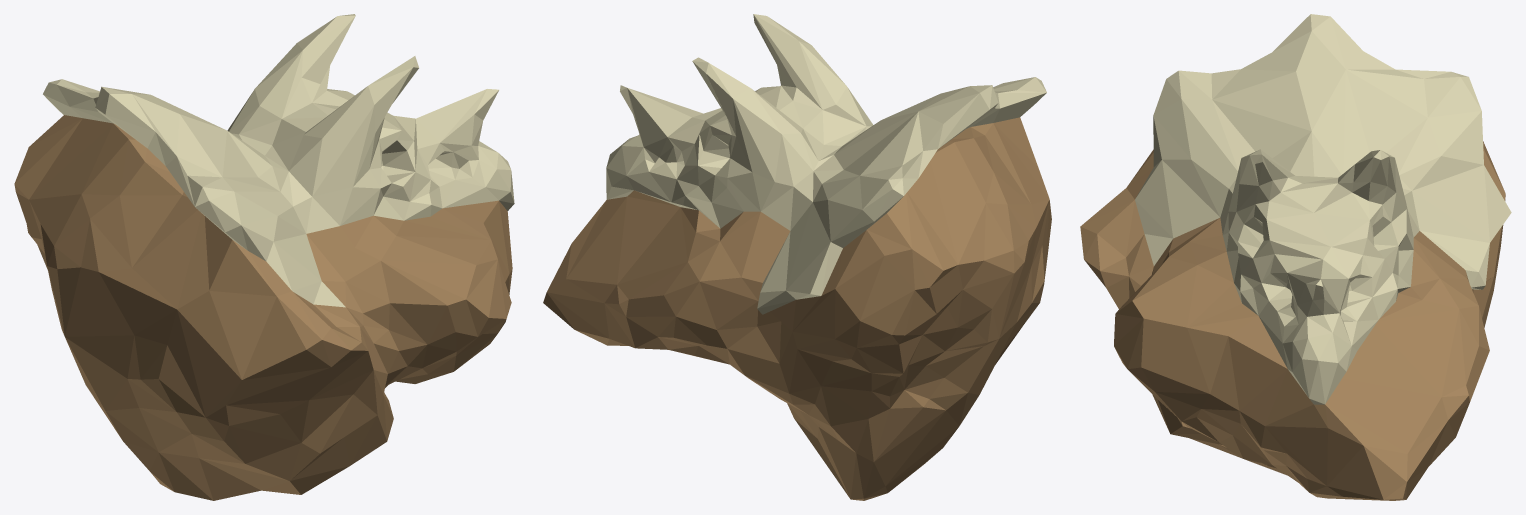
The model's file is SM_LP_FossilNode_1.fbx.
3 renders of one model, left to right at view 1: azimuth 30°, elevation 25°; view 2: azimuth 150°, elevation 25°; view 3: azimuth 270°, elevation 25°, orthographic. The views are drawn at different scales.
Visible parts, largest first — view 1: SM_LP_FossilNode_1; view 2: SM_LP_FossilNode_1; view 3: SM_LP_FossilNode_1.
Boxes of the visible parts, left/top/right/bottom form: SM_LP_FossilNode_1: left=14, top=14, right=514, bottom=500; SM_LP_FossilNode_1: left=543, top=14, right=1051, bottom=500; SM_LP_FossilNode_1: left=1080, top=14, right=1511, bottom=500.
Size of the model in its own units: 1.23 by 1.08 by 1.02.
